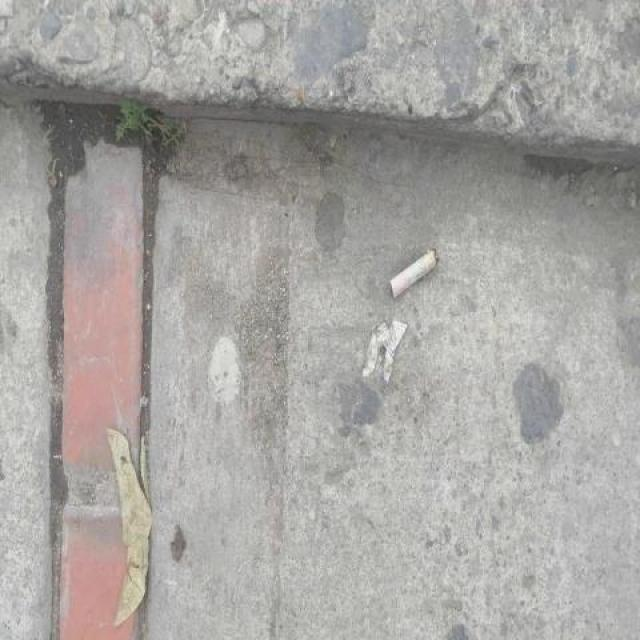non-organic waste: (386, 244, 446, 303)
